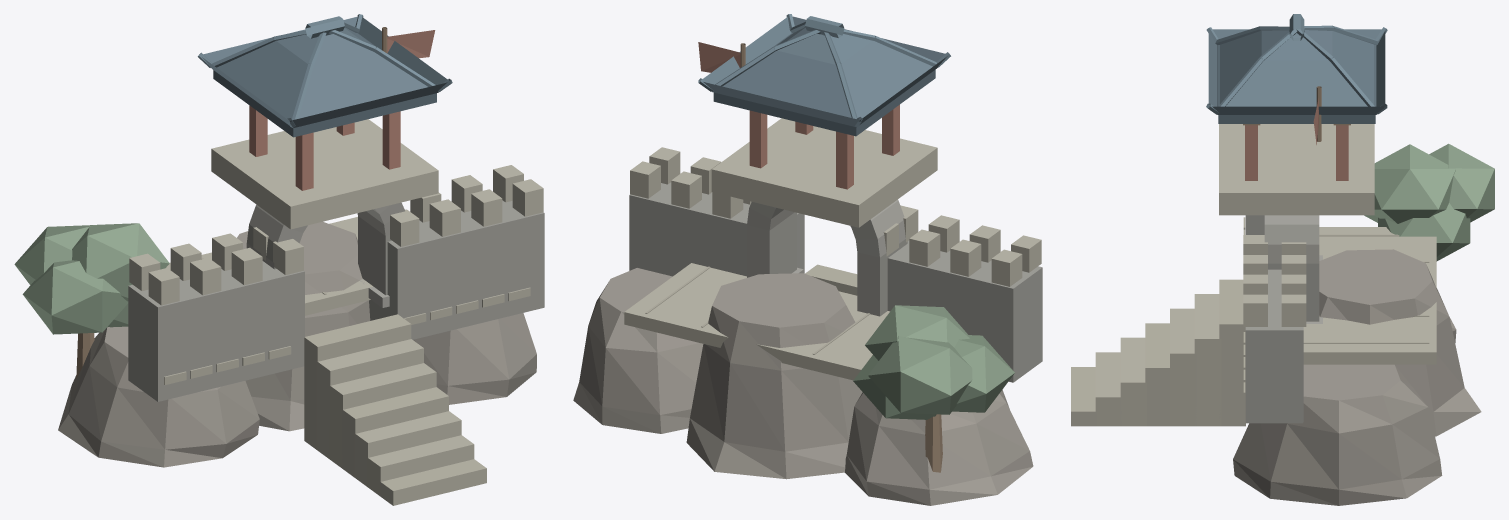
3 renders of one model, left to right at view 1: azimuth 30°, elevation 25°; view 2: azimuth 150°, elevation 25°; view 3: azimuth 270°, elevation 25°, orthographic.
Visible parts, largest first — view 1: S35; view 2: S35; view 3: S35.
Boxes of the visible parts, x1,y1,x2,y2 form: S35: (14, 14, 544, 505); S35: (573, 14, 1042, 505); S35: (1071, 14, 1494, 505).
Bounding box in the file's own units: 4.11 × 3.41 × 3.43.
